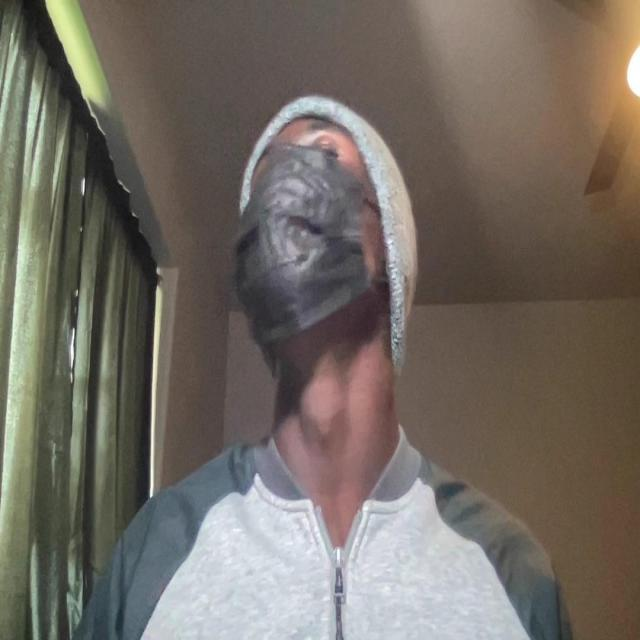face: (229, 95, 388, 363)
